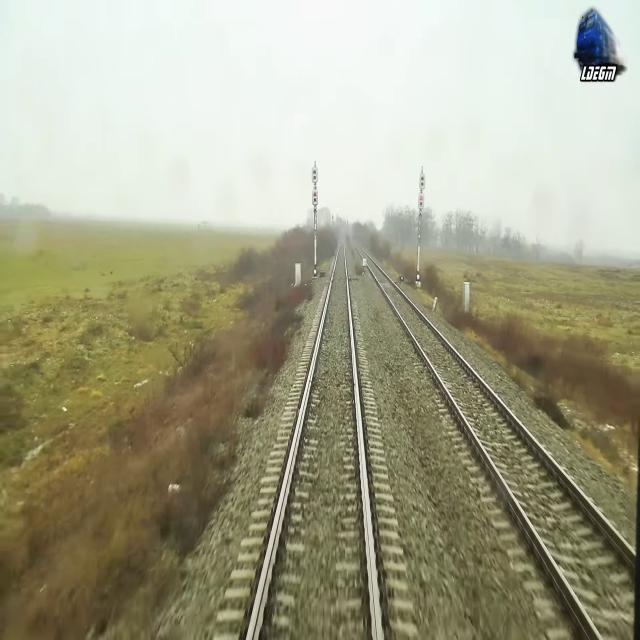rail-track: (356, 245, 640, 639), (252, 245, 377, 639)
